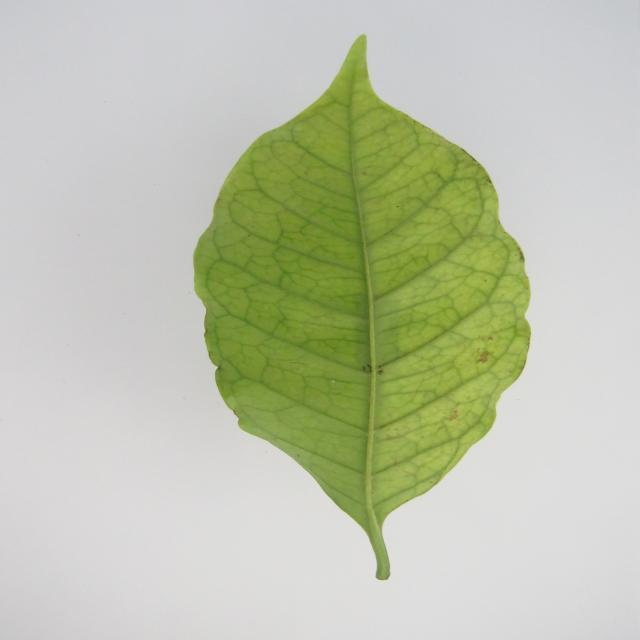DeficienciaNutricional-Manganeso: (195, 36, 530, 579)
